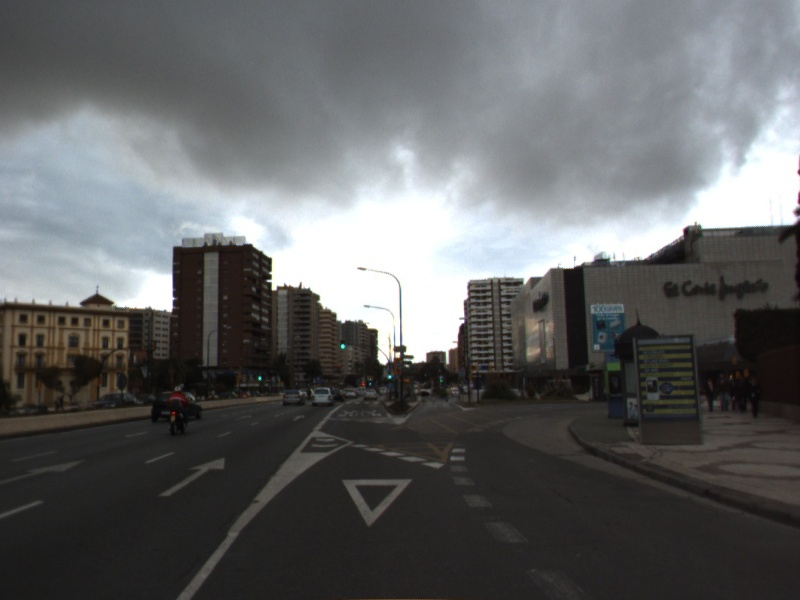STRAIGHT: (156, 454, 231, 499), (1, 455, 91, 486)
